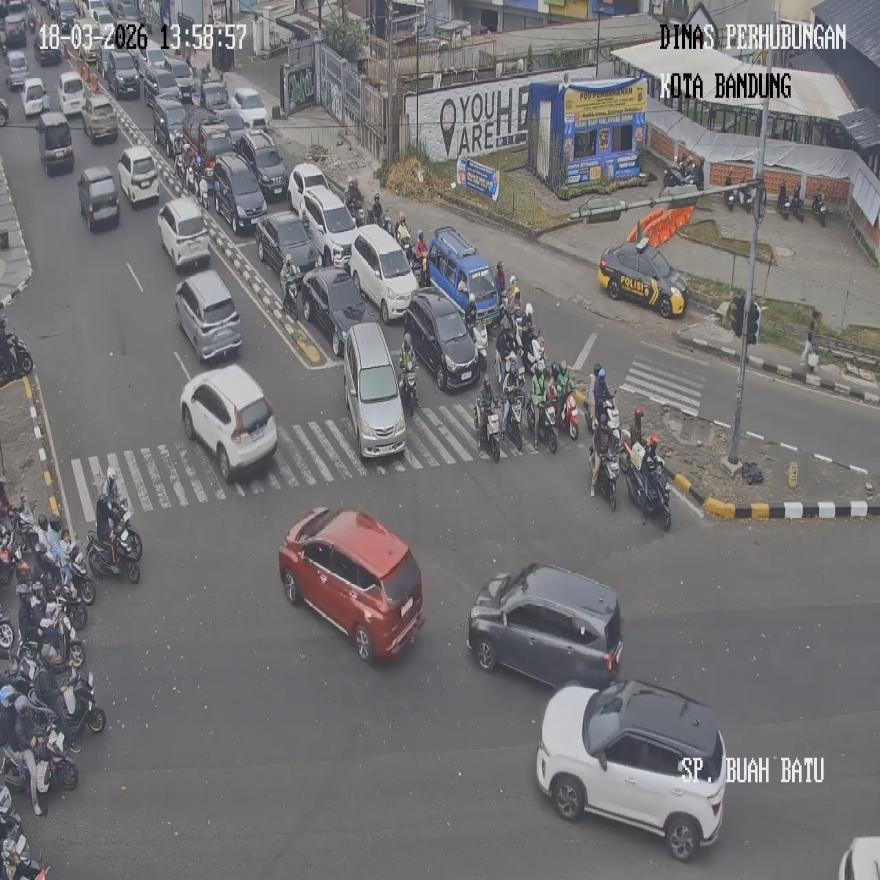Mobil: (536, 678, 726, 860), (278, 505, 424, 660), (467, 562, 623, 691), (180, 364, 278, 482), (342, 322, 407, 458), (404, 287, 482, 391), (427, 226, 499, 331), (598, 234, 689, 316), (350, 224, 420, 323), (175, 269, 242, 363)
Motor: (0, 726, 78, 797), (621, 440, 672, 530), (86, 515, 142, 584), (58, 669, 106, 738), (590, 445, 619, 511), (475, 396, 501, 461), (0, 332, 33, 382), (533, 398, 557, 452), (501, 395, 523, 453), (400, 360, 420, 416), (558, 387, 579, 440), (281, 273, 300, 320), (664, 158, 694, 187), (470, 319, 487, 370), (740, 178, 758, 212), (790, 187, 805, 222), (724, 172, 737, 212), (812, 191, 826, 226), (777, 182, 789, 218)
